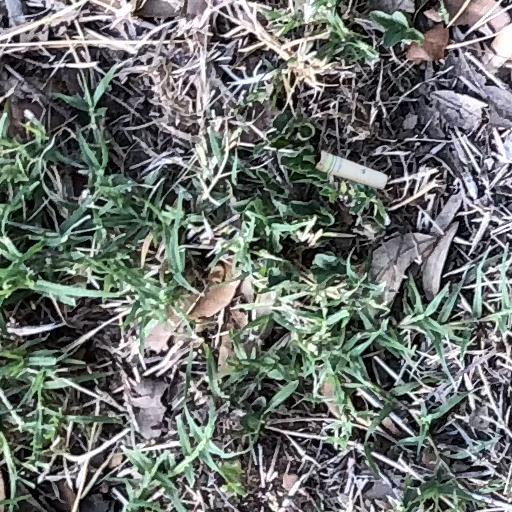smoke: (315, 151, 387, 189)
